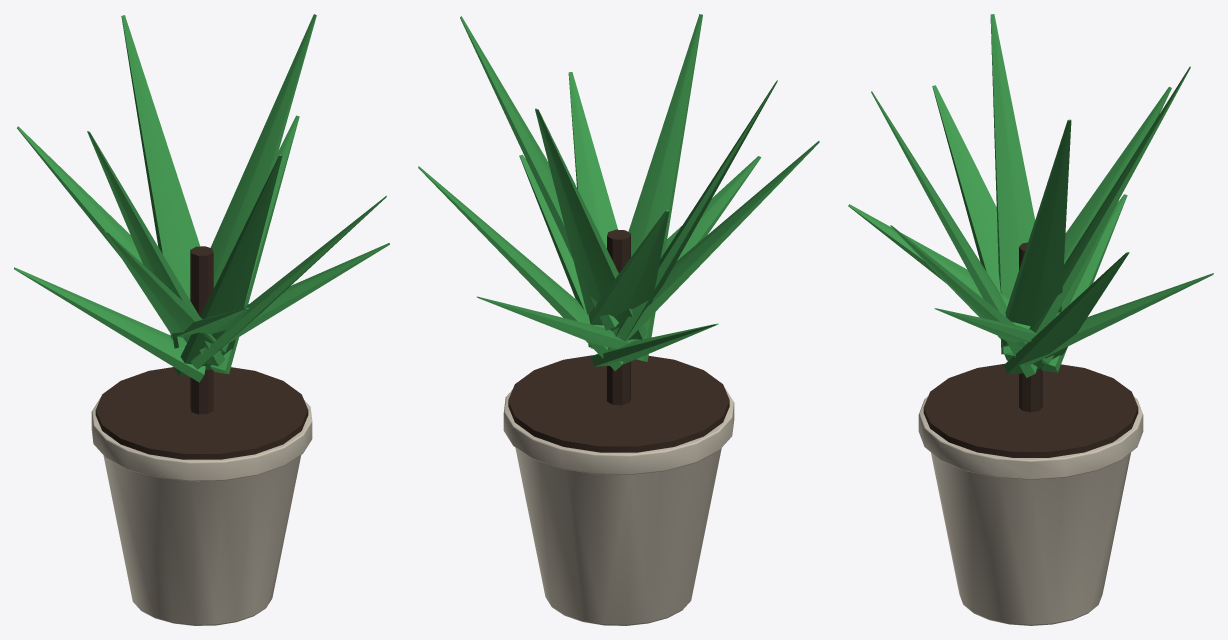
File: PottedPlant.fbx
3 renders of one model, left to right at view 1: azimuth 30°, elevation 25°; view 2: azimuth 150°, elevation 25°; view 3: azimuth 270°, elevation 25°, orthographic. The views are drawn at different scales.
Visible parts, largest first — view 1: PottedPlant; view 2: PottedPlant; view 3: PottedPlant.
Part boxes in pixels (x1,y1,x2,y2): PottedPlant: (14, 14, 389, 625); PottedPlant: (418, 14, 819, 625); PottedPlant: (848, 14, 1213, 625).
Size of the model in its own units: 0.0618 by 0.1093 by 0.0668.
